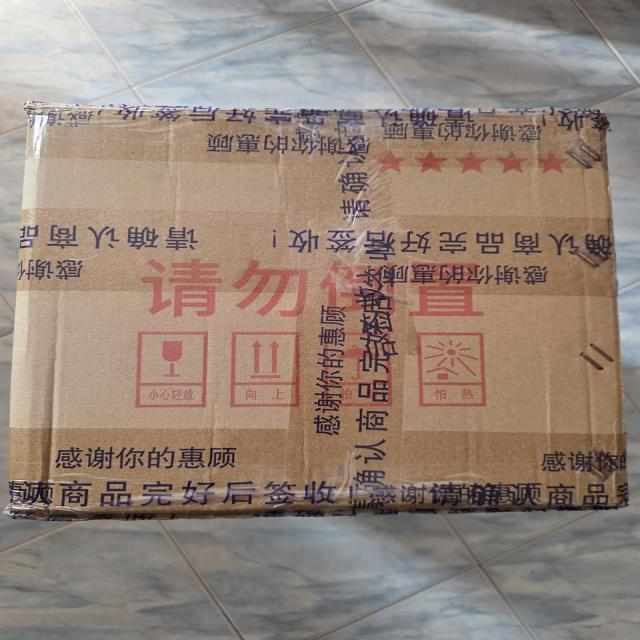carton_box: (0, 95, 640, 538)
fragile_label: (120, 318, 213, 420)
keep_dry_label: (315, 321, 404, 417)
protect_from_heat_label: (413, 325, 500, 418)
this_side_up_label: (223, 319, 308, 413)
